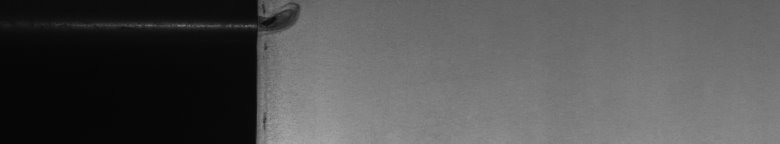hb: (268, 4, 305, 48)
